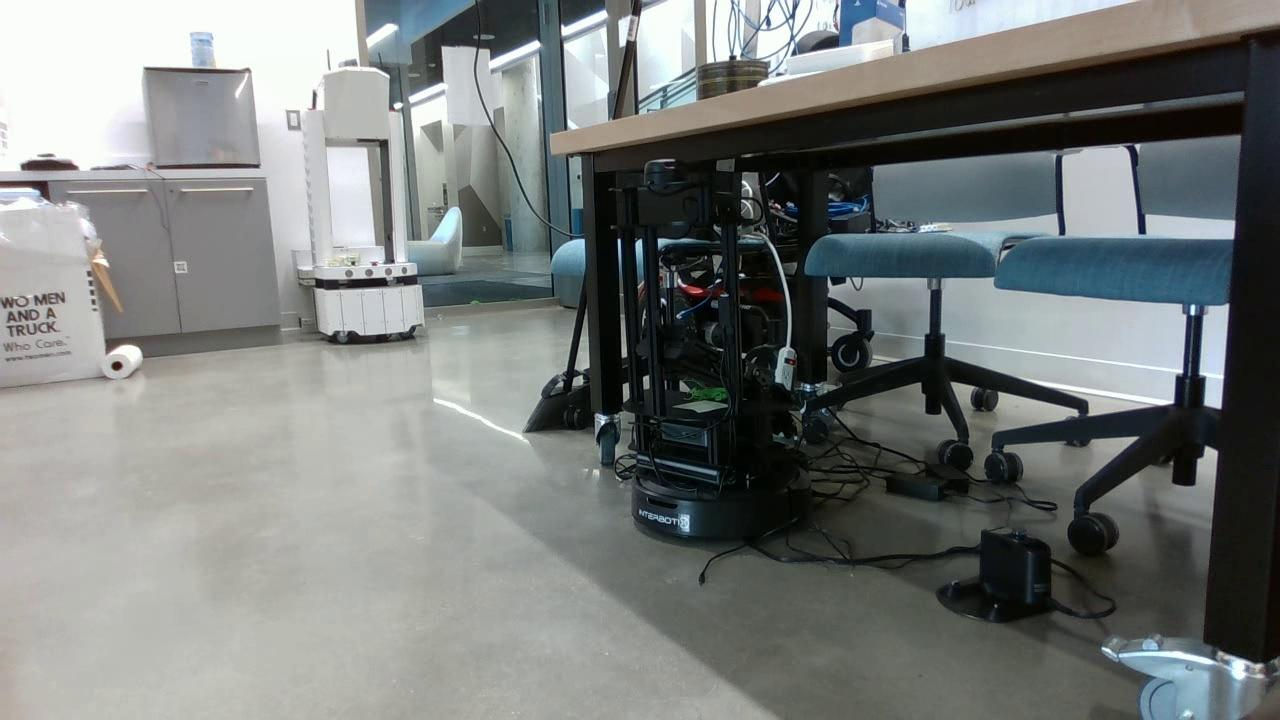grasshopper: (683, 386, 728, 400)
